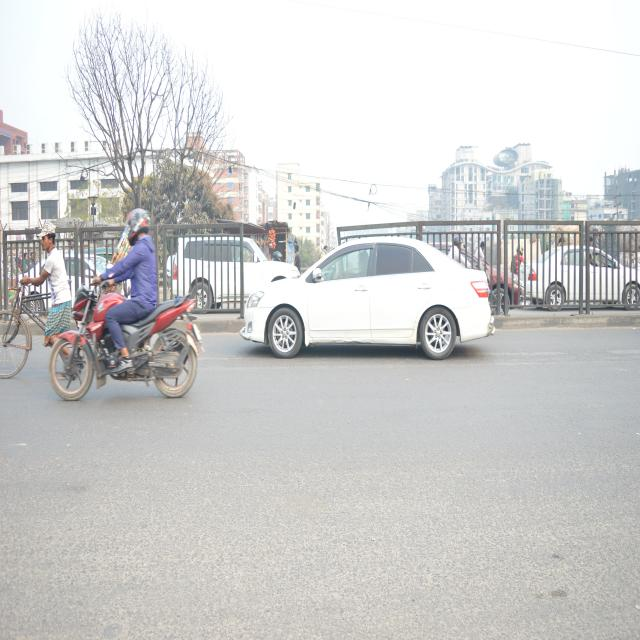car: (246, 237, 494, 375), (526, 231, 640, 326)
microbus: (172, 229, 268, 315)
motorbike: (51, 279, 200, 426)
